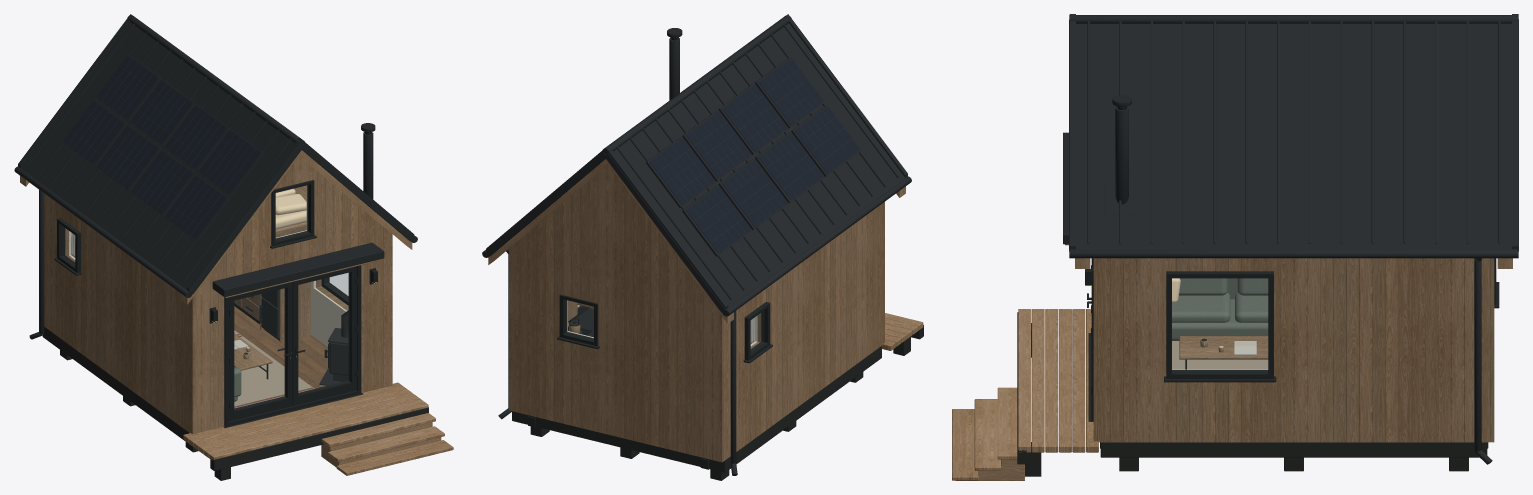
The model's file is niva-configurator.glb.
The picture shows the model from 3 angles, left to right: view 1: azimuth 30°, elevation 25°; view 2: azimuth 150°, elevation 25°; view 3: azimuth 270°, elevation 25°; orthographic projection. The views are drawn at different scales.
Visible parts, largest first — view 1: Left_RoofPlane, Left_SideCladding, Front_GableCladding, Front_DoubleDoor_Glass_-1, Front_DoubleDoor_Glass_1, FrontCanopy, Interior_Floor, SolarModule_0_0_Cells, DeckFrontFascia, SolarModule_1_0_Cells, SolarModule_1_3_Cells, SolarModule_0_1_Cells (+43 smaller); view 2: Rear_KitchenWindowCladding, Left_RoofPlane, Left_SideCladding, FloorStructure, SolarModule_1_0_Cells, SolarModule_1_1_Cells, SolarModule_1_2_Cells, SolarModule_0_2_Cells, SolarModule_0_3_Cells, SolarModule_0_1_Cells, SolarModule_1_3_Cells, SolarModule_0_0_Cells (+12 smaller); view 3: Right_RoofPlane, Right_SideCladding, Right_Window_Glass, FloorStructure, Right_Gutter, RidgeCap, Front_GableCladding, Rear_KitchenWindowCladding, DeckBoard_03, DeckBoard_04, DeckBoard_01, DeckBoard_02 (+34 smaller).
Part boxes in pixels (x1,y1,x2,y2): Left_RoofPlane: (18, 22, 301, 294); Left_SideCladding: (44, 194, 189, 430); Front_GableCladding: (187, 156, 392, 434); Front_DoubleDoor_Glass_-1: (235, 288, 285, 408); Front_DoubleDoor_Glass_1: (299, 273, 349, 393); FrontCanopy: (212, 242, 384, 297); Interior_Floor: (234, 306, 327, 388); SolarModule_0_0_Cells: (199, 130, 260, 193); DeckFrontFascia: (210, 407, 428, 470); SolarModule_1_0_Cells: (165, 175, 226, 238); SolarModule_1_3_Cells: (63, 101, 124, 163); SolarModule_0_1_Cells: (165, 105, 226, 168); Rear_KitchenWindowCladding: (509, 165, 727, 462); Left_RoofPlane: (604, 23, 907, 312); Left_SideCladding: (725, 206, 879, 459); FloorStructure: (512, 346, 881, 472); SolarModule_1_0_Cells: (795, 106, 860, 173); SolarModule_1_1_Cells: (758, 133, 823, 200); SolarModule_1_2_Cells: (722, 160, 787, 226); SolarModule_0_2_Cells: (686, 111, 751, 178); SolarModule_0_3_Cells: (649, 138, 714, 205); SolarModule_0_1_Cells: (722, 85, 787, 151); SolarModule_1_3_Cells: (686, 186, 751, 253); SolarModule_0_0_Cells: (758, 58, 823, 125); Right_RoofPlane: (1069, 22, 1518, 251); Right_SideCladding: (1100, 258, 1487, 442); Right_Window_Glass: (1172, 279, 1267, 371); FloorStructure: (1100, 442, 1487, 457); Right_Gutter: (1069, 250, 1518, 258); RidgeCap: (1069, 15, 1518, 23); Front_GableCladding: (1093, 258, 1107, 442); Rear_KitchenWindowCladding: (1481, 258, 1494, 442); DeckBoard_03: (1045, 309, 1058, 452); DeckBoard_04: (1031, 309, 1044, 452); DeckBoard_01: (1072, 309, 1085, 452); DeckBoard_02: (1059, 309, 1071, 452).
Bounding box in the file's own units: 4.91 × 6.17 × 7.92.
27 materials, 6 textured.
